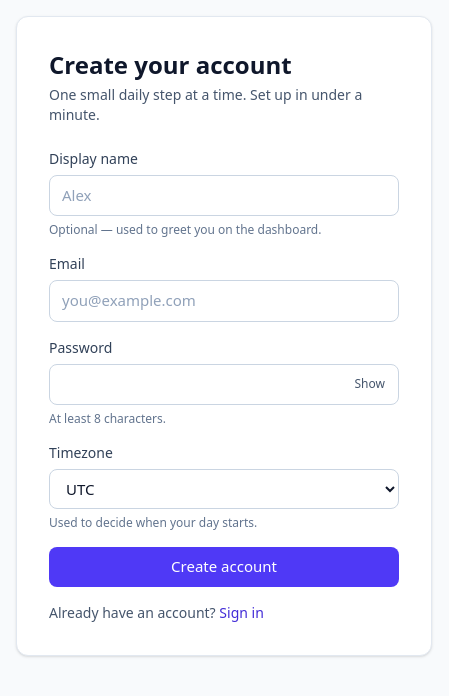
Test: SignUp validation › shows required errors for an empty submit
Click the button "Create account" at (224, 567), box x1=49 y1=547 x2=399 y2=587
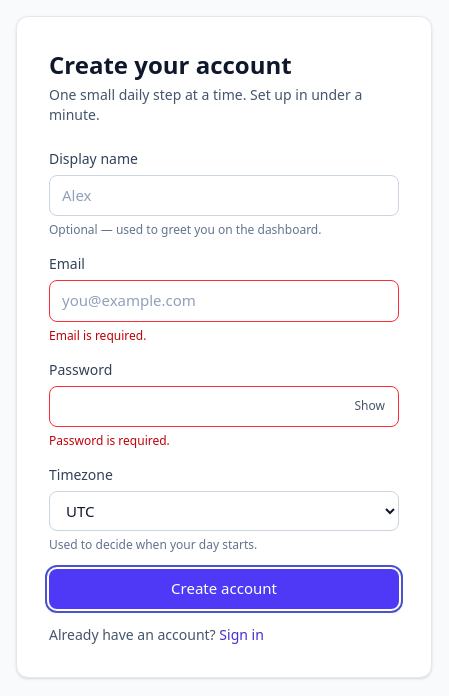
expect the text "Email is required." is shown: met, box x1=49 y1=326 x2=146 y2=344
expect the text "Password is required." is shown: met, box x1=49 y1=432 x2=170 y2=449
